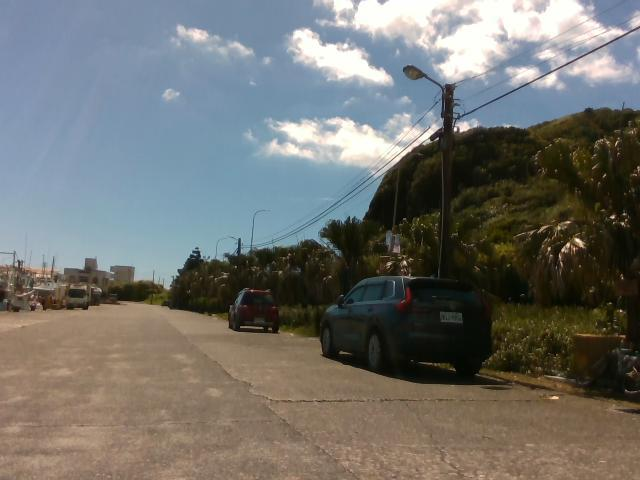pollute: (564, 331, 638, 402)
